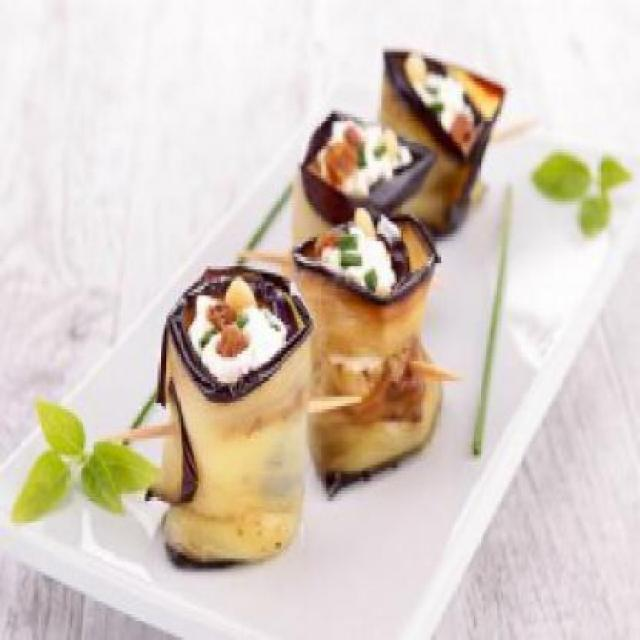eggplant: (147, 32, 495, 572)
hummus: (304, 117, 408, 295), (182, 269, 286, 383), (394, 45, 478, 130)
